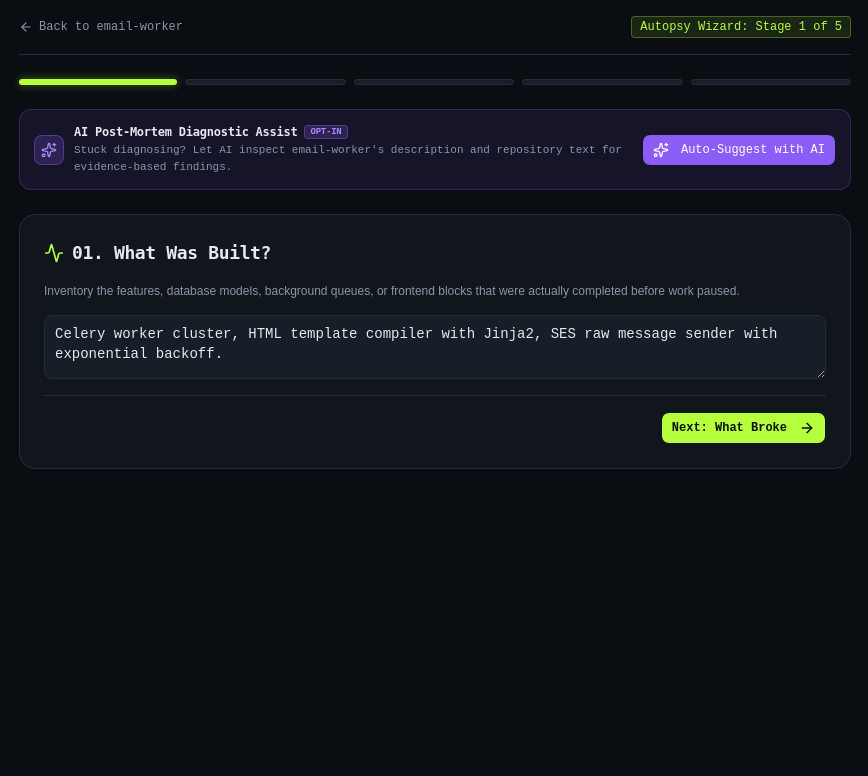
Test: AutopsyWizardPage - Evidence-based AI Diagnostic Assist › fetches evidence-based suggestions and displays activity facts box with data label
The width and height of the screenshot is (868, 776).
Click the button "Auto-Suggest with AI".
click(739, 150)  # box [642,134,836,166]
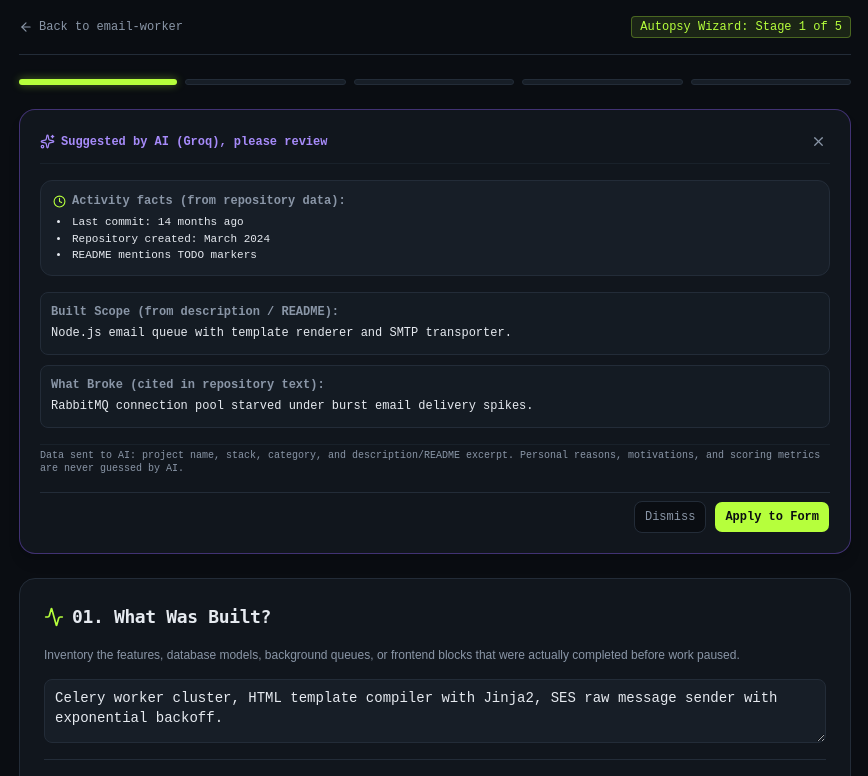
Check: the text "Suggested by AI (Groq), please review" is shown, box [61,134,328,150]
Check: the text "Activity facts (from repository data):" is shown, box [72,193,346,209]
Check: the list item "Last commit: 14 months ago" is shown, box [72,216,244,228]
